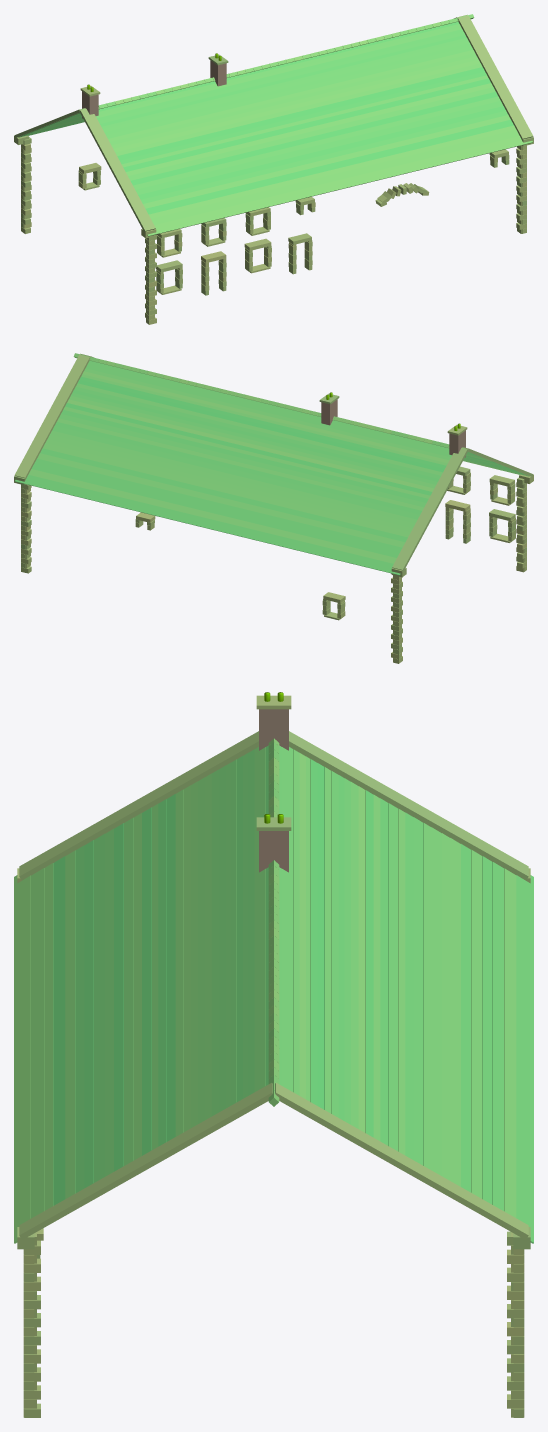
Rendered from SM_Bld_020_Stone.glb.
3 renders of one model, top to bottom at view 1: azimuth 30°, elevation 25°; view 2: azimuth 150°, elevation 25°; view 3: azimuth 270°, elevation 25°, orthographic. The views are drawn at different scales.
Visible parts, largest first — view 1: SM_Bld_020_Stone; view 2: SM_Bld_020_Stone; view 3: SM_Bld_020_Stone.
Boxes of the visible parts, x1=… form: SM_Bld_020_Stone: x1=14, y1=14, x2=533, y2=324; SM_Bld_020_Stone: x1=14, y1=353, x2=533, y2=663; SM_Bld_020_Stone: x1=14, y1=692, x2=533, y2=1417.
Bounding box in the file's own units: 26.55 × 12.27 × 15.61.
